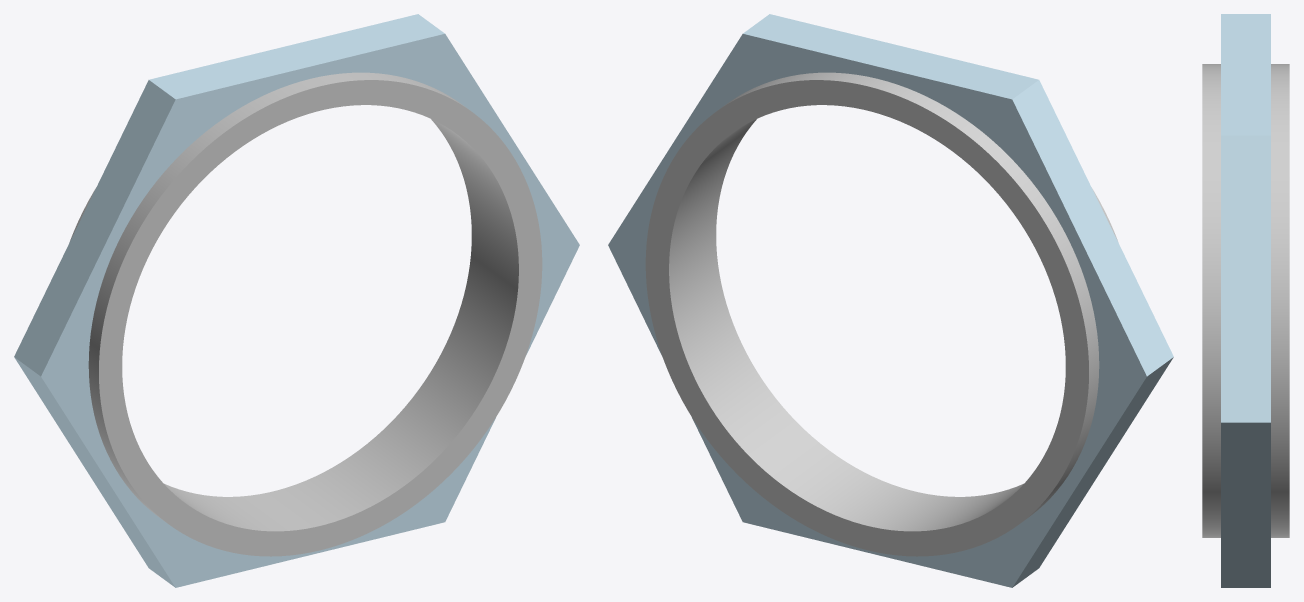
The model's file is Hexagon_2.gltf.
3 renders of one model, left to right at view 1: azimuth 30°, elevation 25°; view 2: azimuth 150°, elevation 25°; view 3: azimuth 270°, elevation 25°, orthographic. The views are drawn at different scales.
Visible parts, largest first — view 1: Part 2, Part 1; view 2: Part 2, Part 1; view 3: Part 1, Part 2.
Boxes of the visible parts, x1=… form: Part 2: x1=70, y1=72, x2=542, y2=556; Part 1: x1=14, y1=14, x2=579, y2=587; Part 2: x1=645, y1=72, x2=1117, y2=556; Part 1: x1=608, y1=14, x2=1173, y2=587; Part 1: x1=1221, y1=14, x2=1270, y2=587; Part 2: x1=1202, y1=64, x2=1289, y2=537.
Size of the model in its own units: 1.15 by 1 by 0.175.
